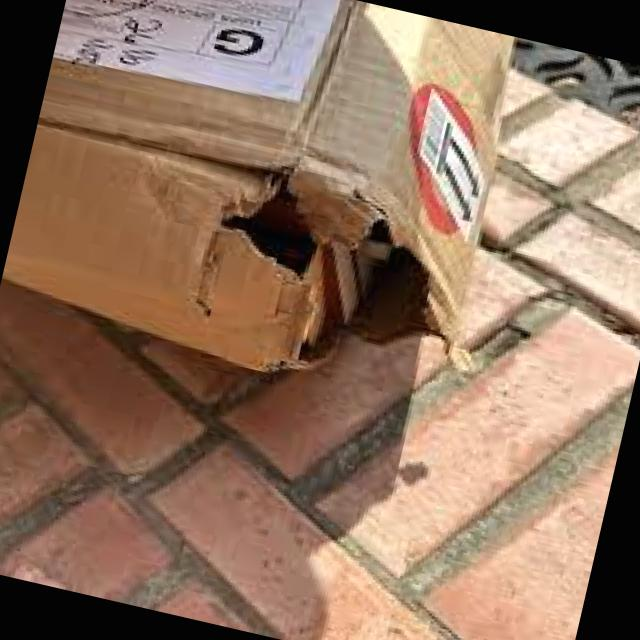package_damage: (146, 121, 488, 410)
this_side_up_label: (384, 98, 534, 245)
